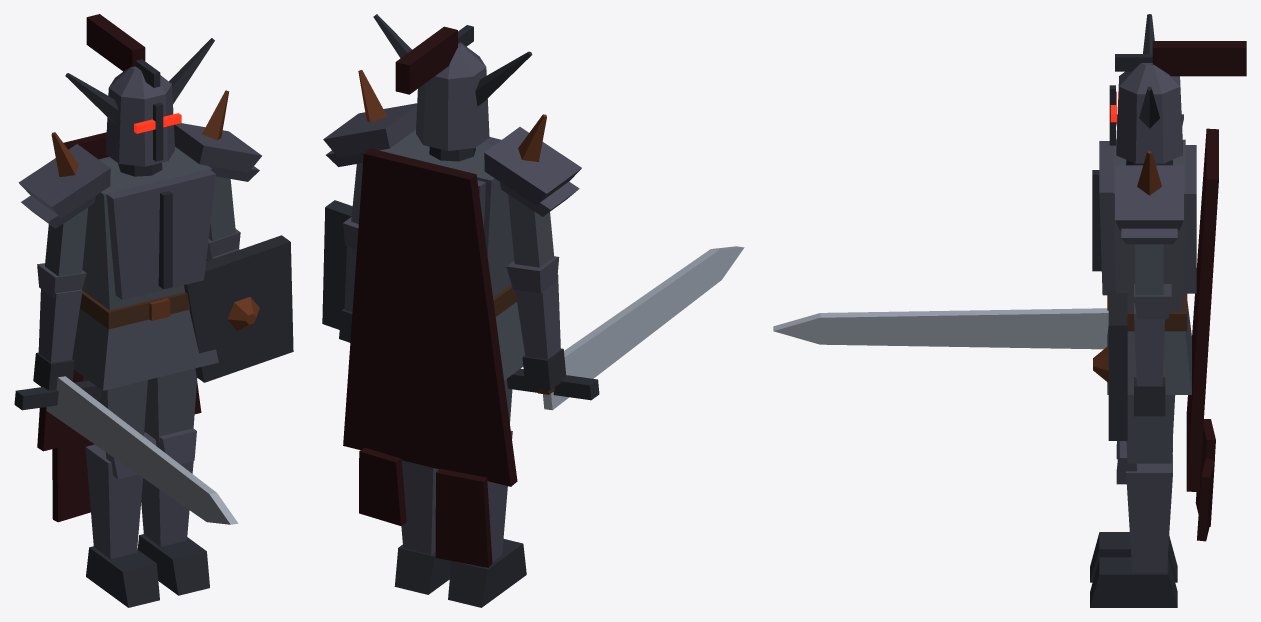
The model's file is boss_renegade_knight.glb.
The picture shows the model from 3 angles, left to right: view 1: azimuth 30°, elevation 25°; view 2: azimuth 150°, elevation 25°; view 3: azimuth 270°, elevation 25°; orthographic projection. The views are drawn at different scales.
Visible parts, largest first — view 1: Buckler, Breastplate, Tasset, SwordBlade, TorsoMail, GreaveR, Helm, PauldronTopR, BootR, ThighL, BootL, CapeRag1 (+28 smaller); view 2: Cape, SwordBlade, CapeRag1, Helm, TorsoMail, PauldronTopR, BootR, CapeRag2, PauldronTopL, GreaveL, Buckler, VambraceR (+14 smaller); view 3: SwordBlade, Cape, GreaveL, Helm, PauldronTopL, BootL, HelmPlume, TorsoMail, Buckler, ThighL, Tasset, Breastplate (+13 smaller).
Boxes of the visible parts, box(x1,y1,x2,y2) form: Buckler: box(184, 235, 293, 382); Breastplate: box(106, 169, 215, 299); Tasset: box(72, 309, 218, 390); SwordBlade: box(46, 376, 238, 524); TorsoMail: box(82, 147, 211, 310); GreaveR: box(85, 444, 143, 558); Helm: box(105, 85, 174, 166); PauldronTopR: box(18, 144, 110, 218); BootR: box(86, 546, 159, 607); ThighL: box(144, 368, 197, 441); BootL: box(137, 534, 209, 595); CapeRag1: box(52, 440, 94, 522); Cape: box(343, 148, 517, 486); SwordBlade: box(543, 246, 744, 410); CapeRag1: box(435, 468, 492, 567); Helm: box(416, 67, 489, 150); TorsoMail: box(380, 130, 514, 297); PauldronTopR: box(484, 127, 581, 205); BootR: box(448, 539, 526, 607); CapeRag2: box(359, 447, 406, 525); PauldronTopL: box(323, 103, 417, 157); GreaveL: box(401, 460, 438, 554); Buckler: box(322, 200, 352, 329); VambraceR: box(515, 274, 560, 359); SwordBlade: box(773, 308, 1108, 349); Cape: box(1186, 128, 1218, 492); GreaveL: box(1126, 454, 1172, 572); Helm: box(1116, 80, 1182, 163); PauldronTopL: box(1115, 165, 1183, 230); BootL: box(1090, 557, 1177, 607); HelmPlume: box(1152, 41, 1246, 76); TorsoMail: box(1113, 139, 1185, 312); Buckler: box(1108, 290, 1127, 440); ThighL: box(1126, 395, 1175, 463); Tasset: box(1107, 301, 1191, 394); Breastplate: box(1099, 141, 1115, 295).
Size of the model in its own units: 0.9927 by 1.91 by 1.51.
